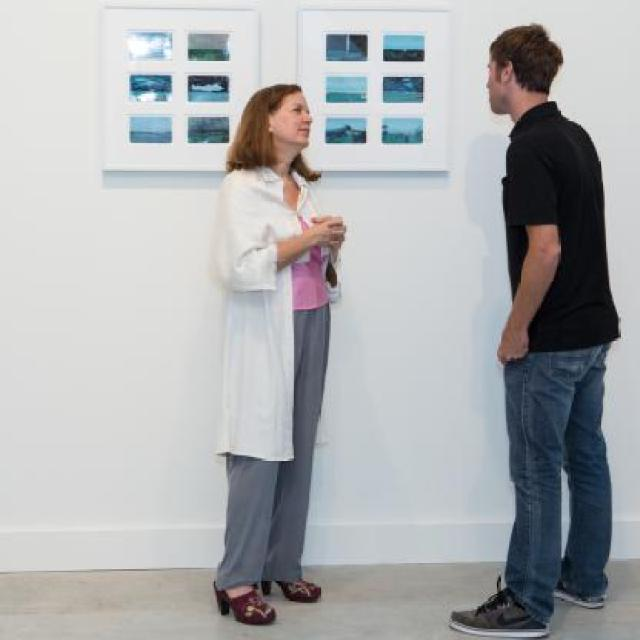Person: (432, 22, 623, 638), (210, 69, 365, 628)
